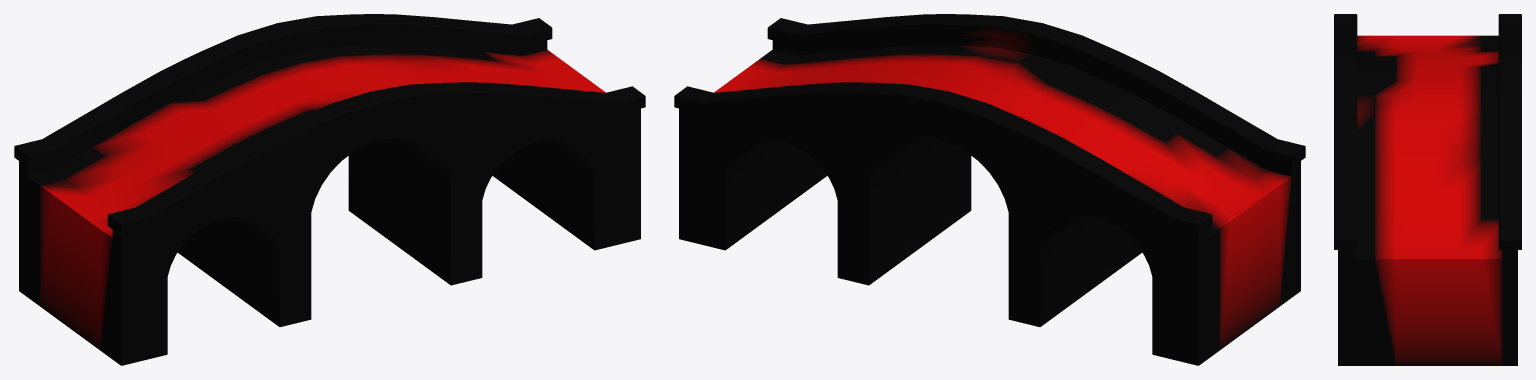
File: bridge_vertexpaint3.fbx
3 renders of one model, left to right at view 1: azimuth 30°, elevation 25°; view 2: azimuth 150°, elevation 25°; view 3: azimuth 270°, elevation 25°, orthographic. The views are drawn at different scales.
Parts seen in each view (by area): view 1: Cube; view 2: Cube; view 3: Cube.
Boxes of the visible parts, box(x1,y1,x2,y2) form: Cube: box(14, 14, 645, 365); Cube: box(674, 14, 1305, 365); Cube: box(1334, 14, 1521, 365).
Size of the model in its own units: 1212 by 449 by 426.
